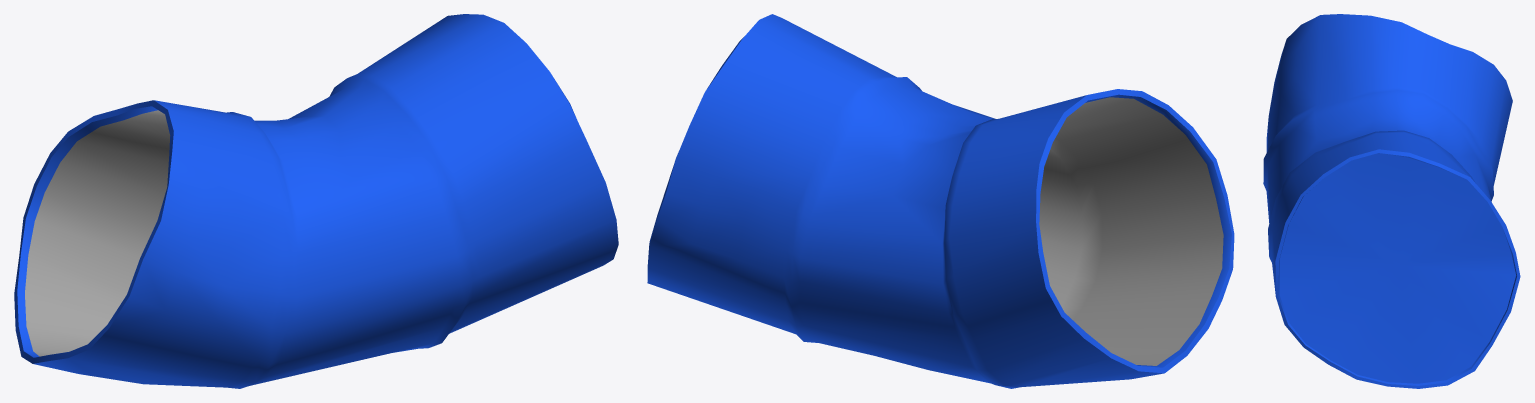
The model's file is barrel_open_2mat_damage4.fbx.
3 views of the same model, side by side, from view 1: azimuth 30°, elevation 25°; view 2: azimuth 150°, elevation 25°; view 3: azimuth 270°, elevation 25° (orthographic). The views are drawn at different scales.
Parts seen in each view (by area): view 1: barrel_open_2mat_damage4; view 2: barrel_open_2mat_damage4; view 3: barrel_open_2mat_damage4.
Boxes of the visible parts, x1=… form: barrel_open_2mat_damage4: x1=14, y1=14, x2=618, y2=388; barrel_open_2mat_damage4: x1=647, y1=14, x2=1234, y2=388; barrel_open_2mat_damage4: x1=1263, y1=14, x2=1520, y2=388.
Size of the model in its own units: 99.67 by 52.33 by 51.52.
